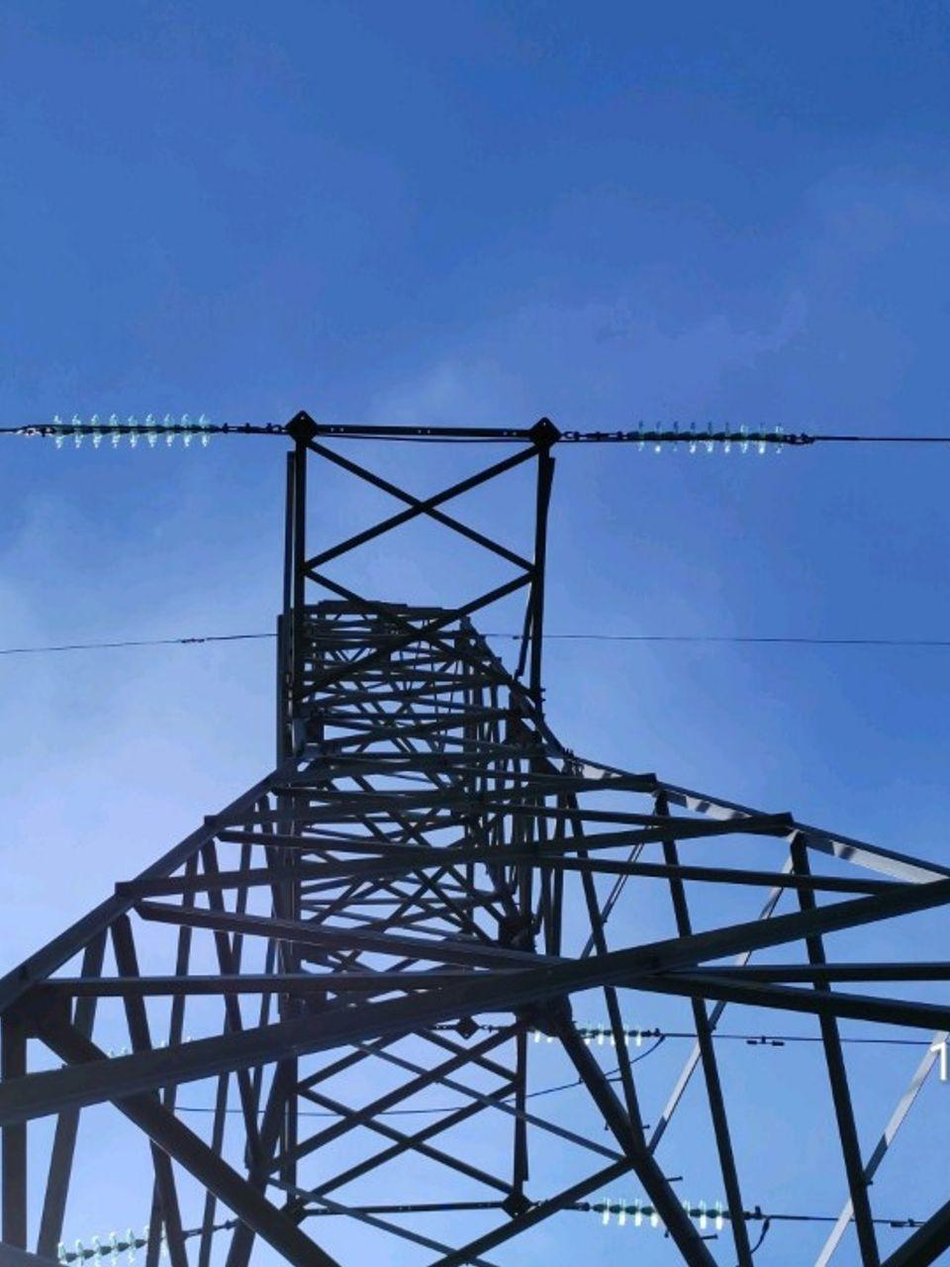tower: (0, 388, 950, 1267)
